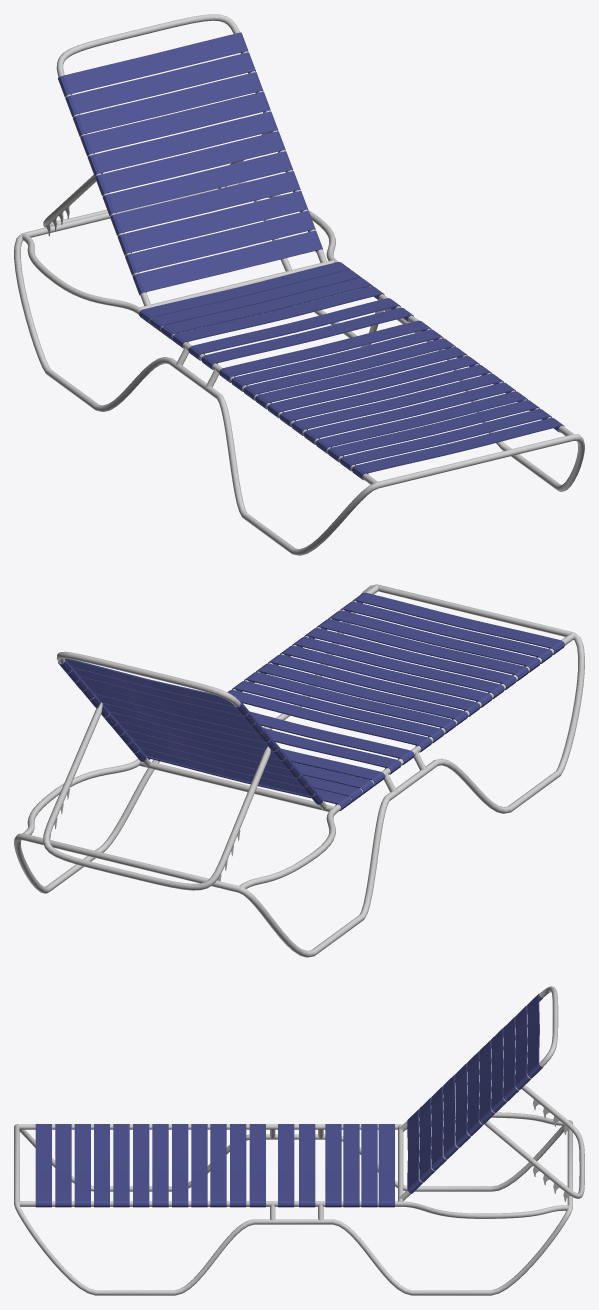
The model's file is fit-chaise.glb.
3 views of the same model, one above another, from view 1: azimuth 30°, elevation 25°; view 2: azimuth 150°, elevation 25°; view 3: azimuth 270°, elevation 25° (orthographic). The views are drawn at different scales.
Bounding box in the file's own units: 87.96 × 88.49 × 200.
